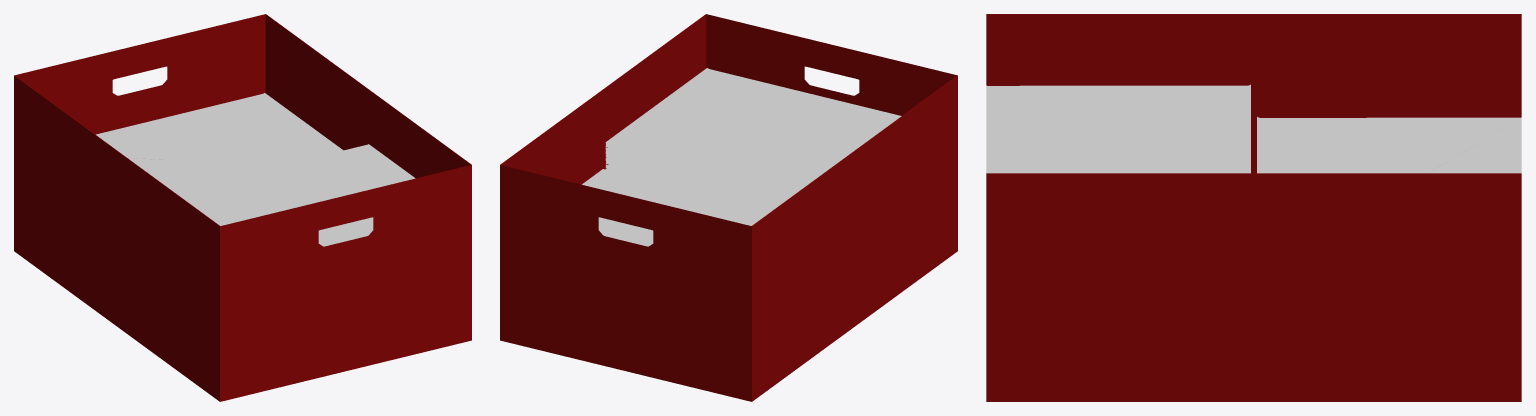
File: redplasticboxdecimated.fbx
3 views of the same model, side by side, from view 1: azimuth 30°, elevation 25°; view 2: azimuth 150°, elevation 25°; view 3: azimuth 270°, elevation 25° (orthographic). The views are drawn at different scales.
Parts seen in each view (by area): view 1: Cube.005, Cube.2258, Cube.1259; view 2: Cube.005, Cube.1259, Cube.2258; view 3: Cube.005, Cube.1259, Cube.2258.
Part boxes in pixels (box(x1,y1,x2,y2)): Cube.005: box(14, 14, 471, 401); Cube.2258: box(96, 93, 343, 191); Cube.1259: box(174, 144, 415, 246); Cube.005: box(500, 14, 957, 401); Cube.1259: box(605, 68, 901, 210); Cube.2258: box(582, 169, 772, 246); Cube.005: box(986, 14, 1521, 401); Cube.1259: box(986, 84, 1250, 173); Cube.2258: box(1257, 117, 1521, 173).
Size of the model in its own units: 30 by 20 by 42.5.
